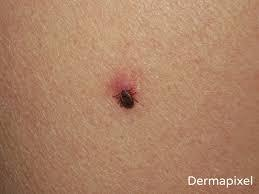Tick: (102, 66, 145, 114)
